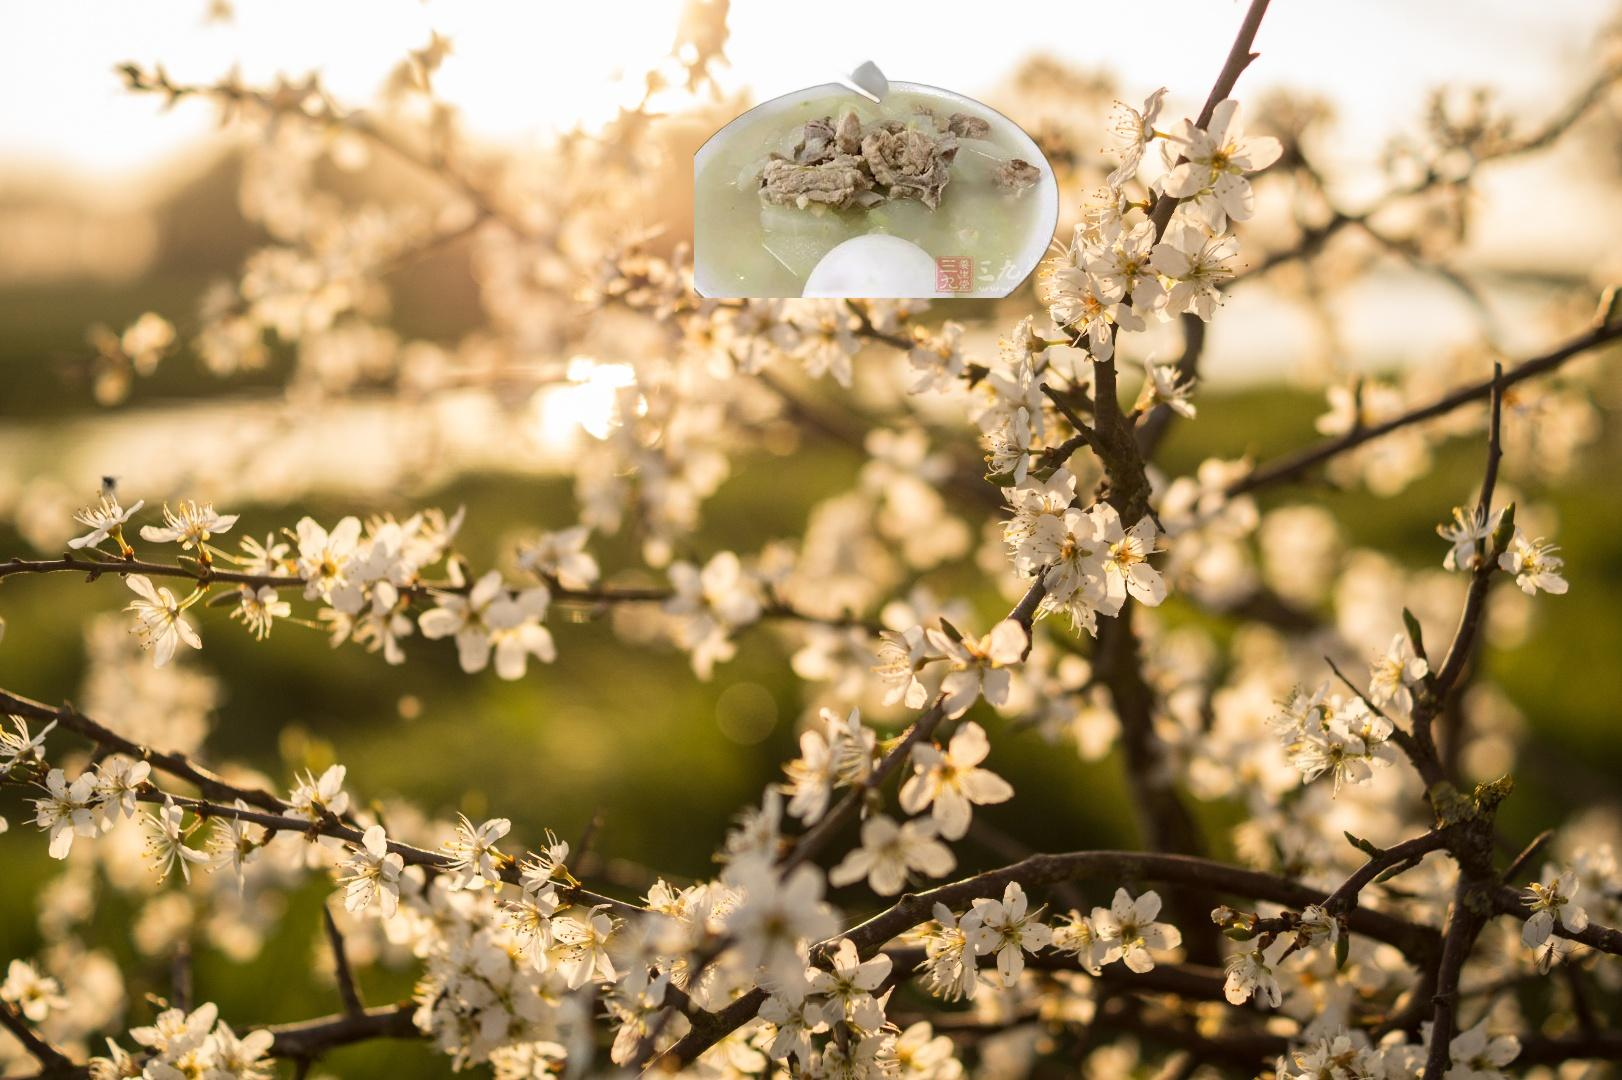biological: (694, 48, 1062, 298)
trashbox-cardboard: (96, 470, 304, 515)
